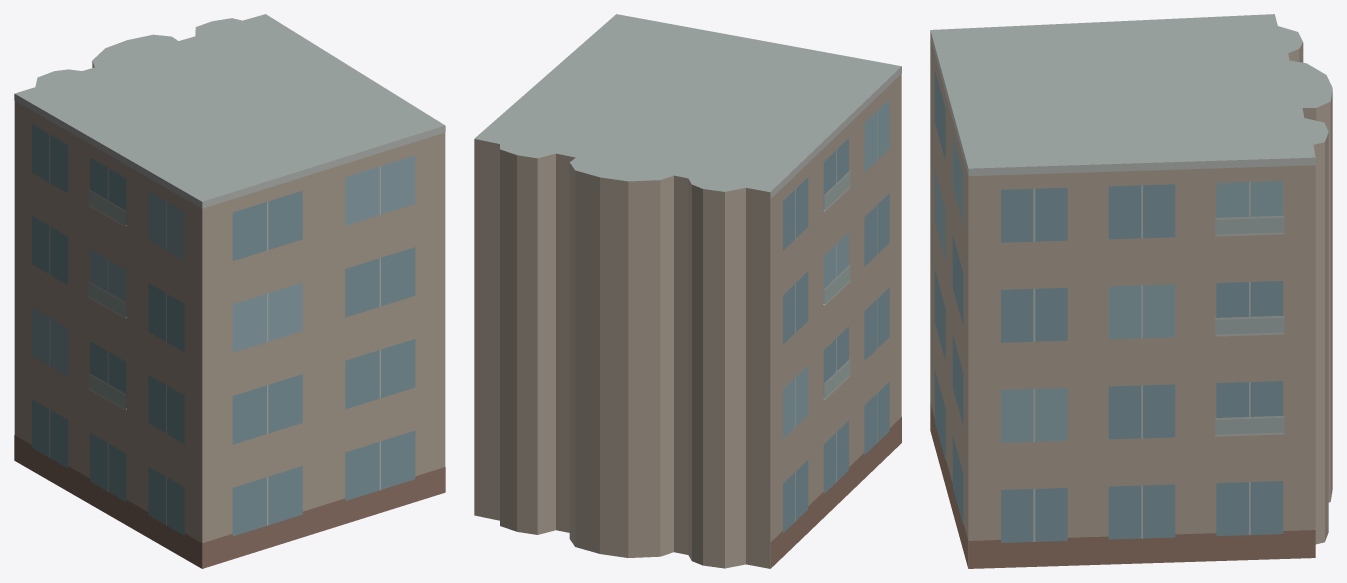
The model's file is survey-upis-32610745.glb.
3 renders of one model, left to right at view 1: azimuth 30°, elevation 25°; view 2: azimuth 150°, elevation 25°; view 3: azimuth 270°, elevation 25°, orthographic. The views are drawn at different scales.
Visible parts, largest first — view 1: survey-upis-32610745.tmp; view 2: survey-upis-32610745.tmp; view 3: survey-upis-32610745.tmp.
Part boxes in pixels (box(x1,y1,x2,y2)): survey-upis-32610745.tmp: box(14, 14, 445, 568); survey-upis-32610745.tmp: box(474, 14, 901, 568); survey-upis-32610745.tmp: box(930, 14, 1332, 568).
Size of the model in its own units: 10.7 by 12.9 by 11.76.
